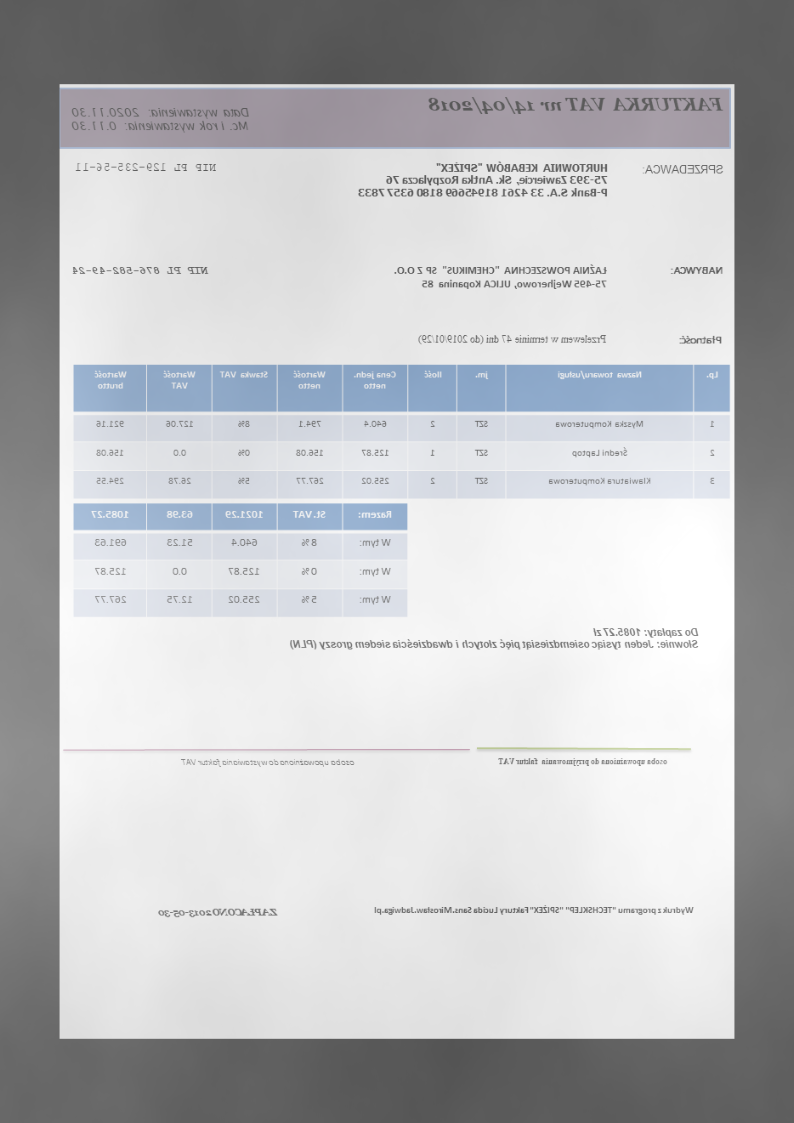Table: (71, 363, 733, 498), (73, 502, 410, 618)
TextBox: (287, 625, 701, 654), (357, 162, 610, 202), (424, 93, 726, 118), (392, 264, 610, 291), (67, 105, 252, 134), (372, 903, 697, 917), (416, 332, 609, 346), (496, 755, 672, 768), (180, 756, 357, 768), (71, 263, 211, 278), (74, 161, 219, 175), (156, 905, 281, 921), (641, 161, 726, 176), (677, 333, 726, 347), (670, 264, 727, 276)
